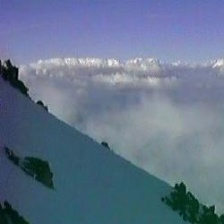neutral: (3, 28, 220, 222)
